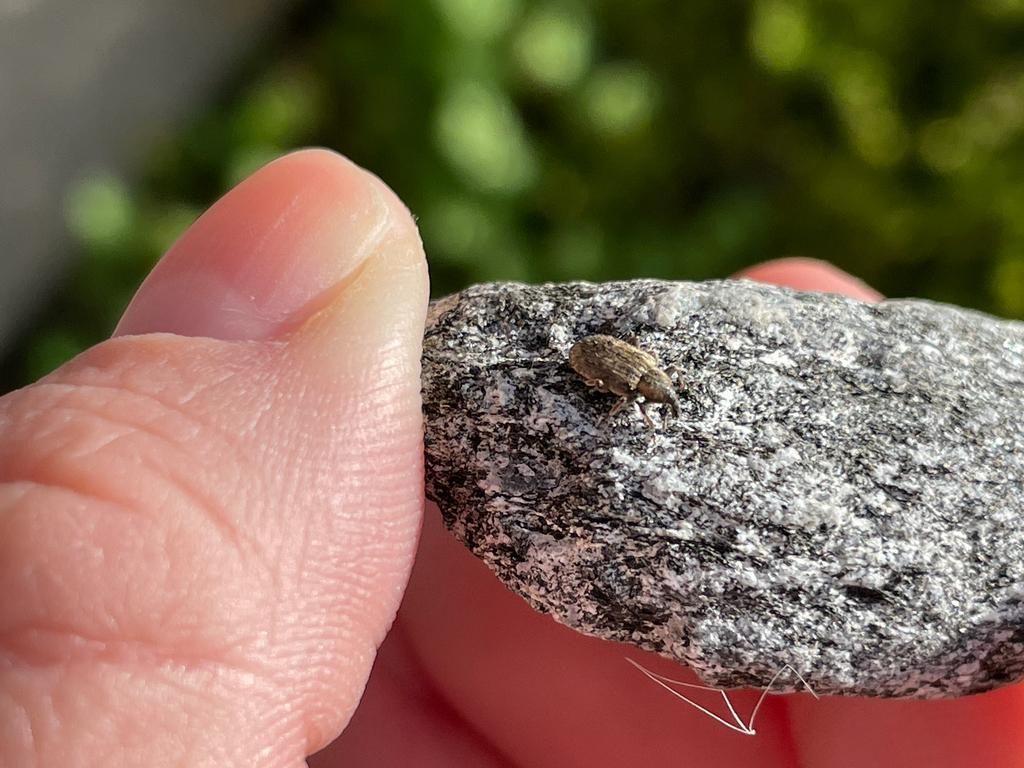weevils: (531, 300, 717, 464)
